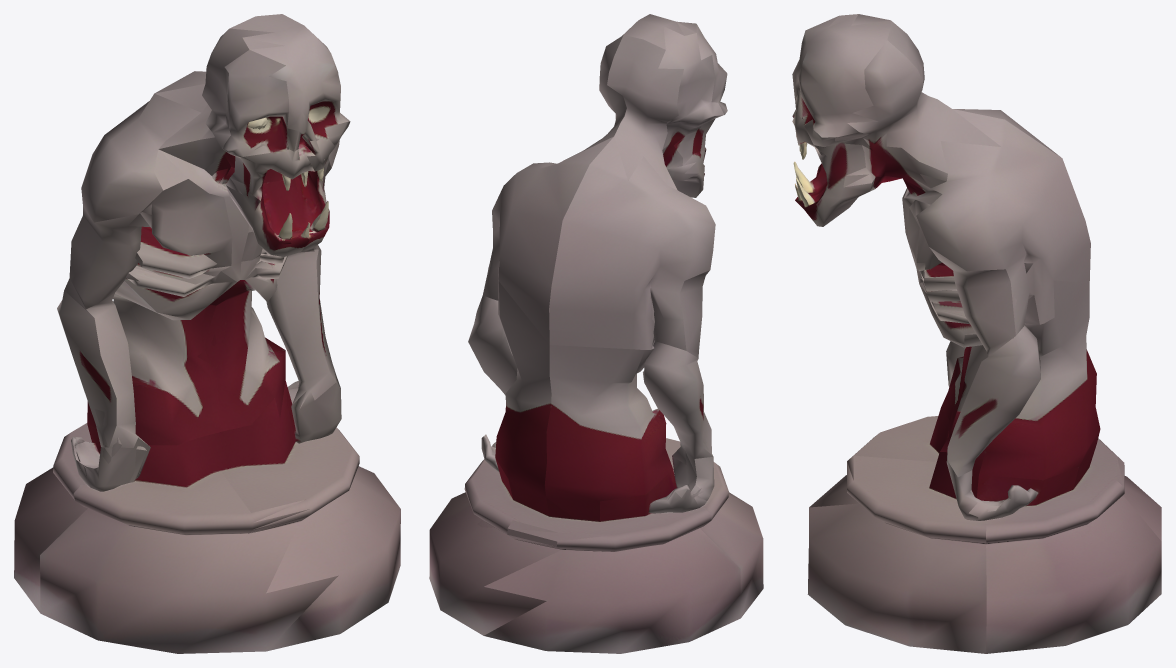
The model's file is Meshy_AI_Grim_Sentinel_0726160059_texture.glb.
3 views of the same model, side by side, from view 1: azimuth 30°, elevation 25°; view 2: azimuth 150°, elevation 25°; view 3: azimuth 270°, elevation 25° (orthographic). The views are drawn at different scales.
Parts seen in each view (by area): view 1: mesh_node; view 2: mesh_node; view 3: mesh_node.
Part boxes in pixels (left/top/right/bottom): mesh_node: left=14, top=14, right=400, bottom=653; mesh_node: left=429, top=14, right=763, bottom=653; mesh_node: left=792, top=14, right=1161, bottom=653.
Bounding box in the file's own units: 0.5898 × 0.998 × 0.6074.
1 material, 1 textured.
